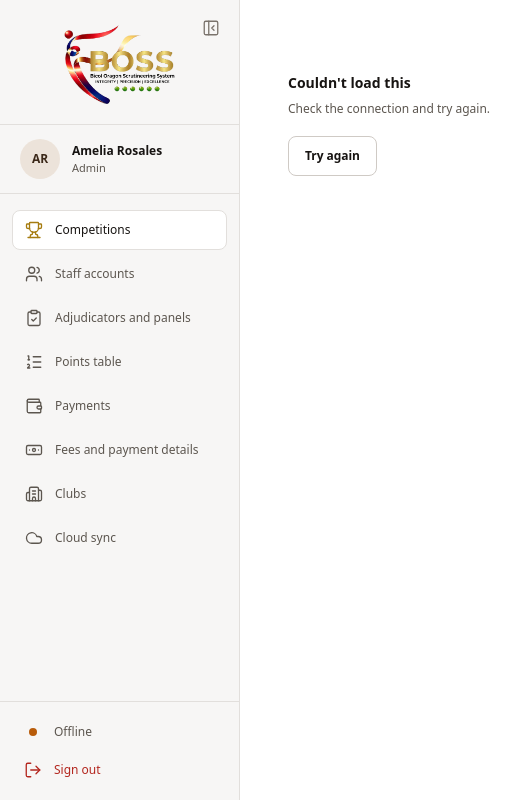
Scenario: staff sidebar › collapses to icons only, keeps every link reachable by name, and expands again
Click the button named "Collapse sidebar" at (211, 28), box x1=195 y1=12 x2=227 y2=44
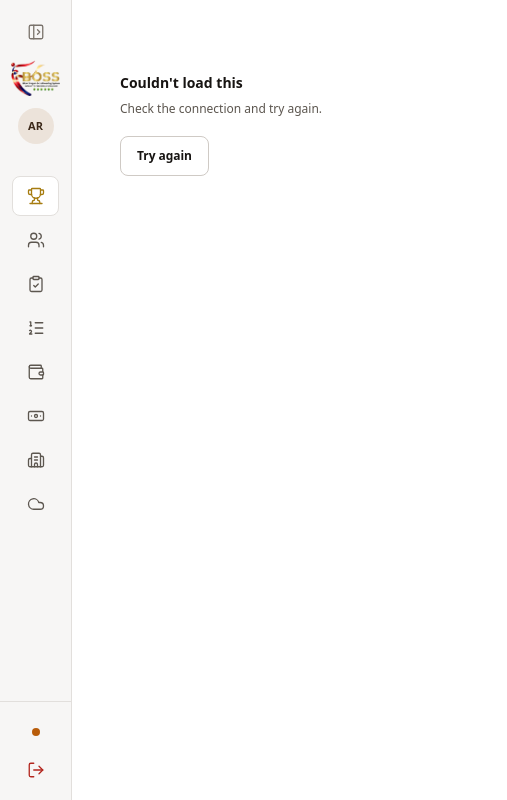
Check: the button named "Expand sidebar" is collapsed
Click the button named "Expand sidebar" at (36, 32), box x1=20 y1=16 x2=52 y2=48
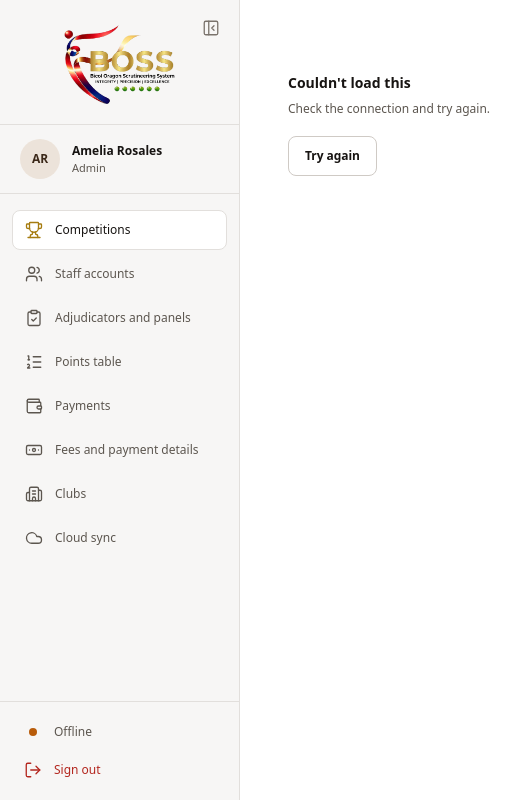
Check: the button named "Collapse sidebar" is shown, box x1=195 y1=12 x2=227 y2=44
